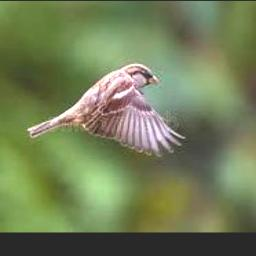Sparrow: (29, 62, 186, 156)
